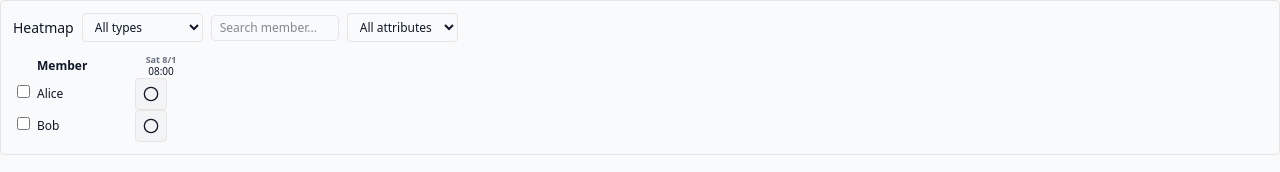
Test: DistributionHeatmap › filters members by name search
This screenshot has width=1280, height=172.
expect the text "Alice" is shown: met, box [37, 78, 133, 110]
expect the text "Bob" is shown: met, box [37, 110, 133, 142]
Type "ali" into the field with placeholder "Search member..." at (275, 28), box [211, 14, 339, 40]
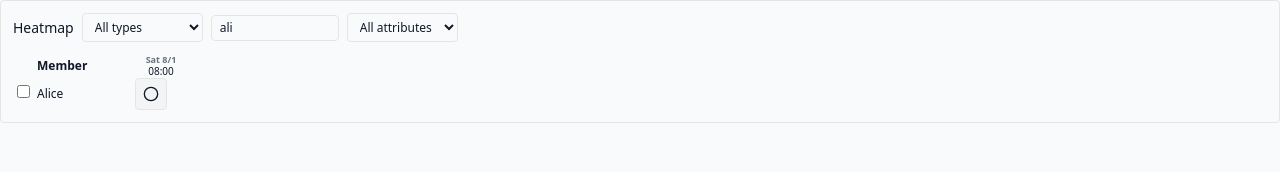
expect the text "Alice" is shown: met, box [37, 78, 133, 110]
expect the text "Bob" is gone: met
